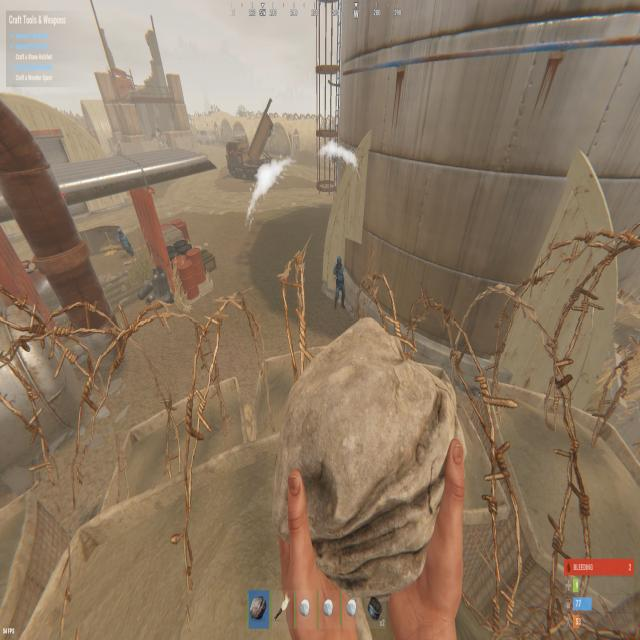Player: (333, 254, 347, 312), (116, 227, 135, 258)
